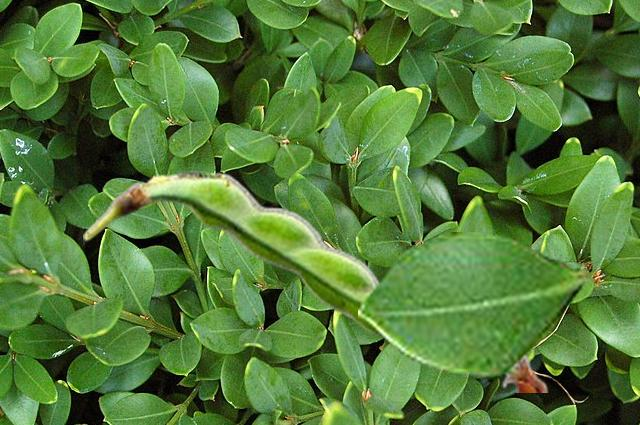pea: (83, 171, 548, 391)
